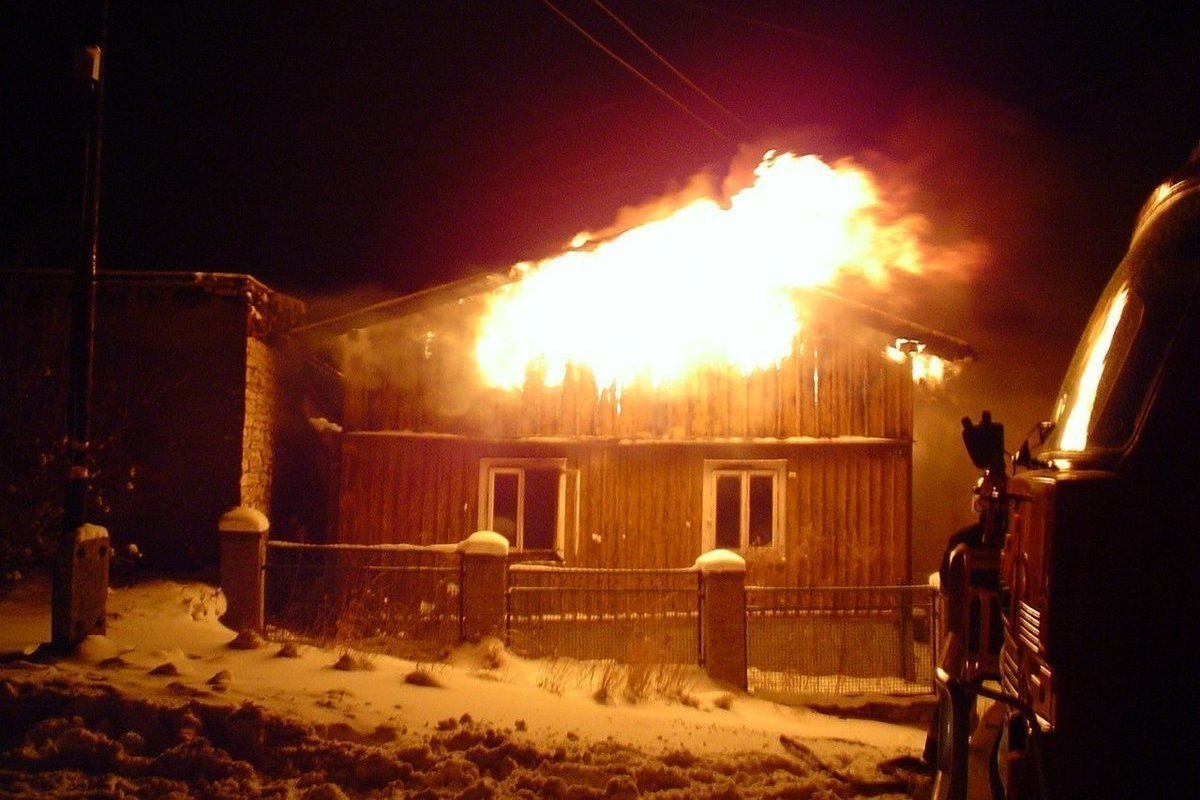fire: (423, 111, 1000, 408)
